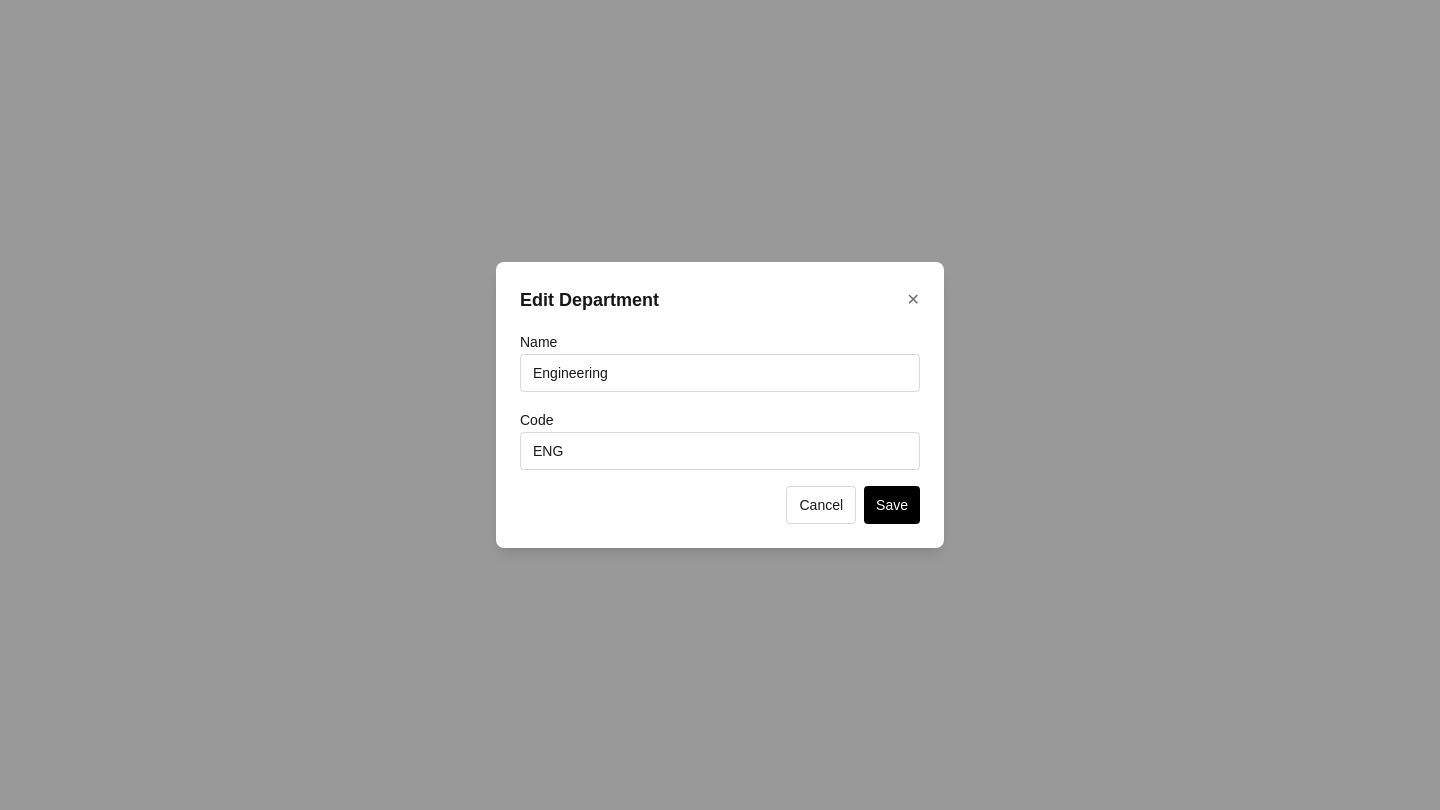
Test: DepartmentFormModal › UT08: shows inline DUPLICATE_CODE when editing with a code used by another department and does not close
Replace the text in the field labelled "Code" with "DUP" at (720, 451), box [520, 432, 920, 470]
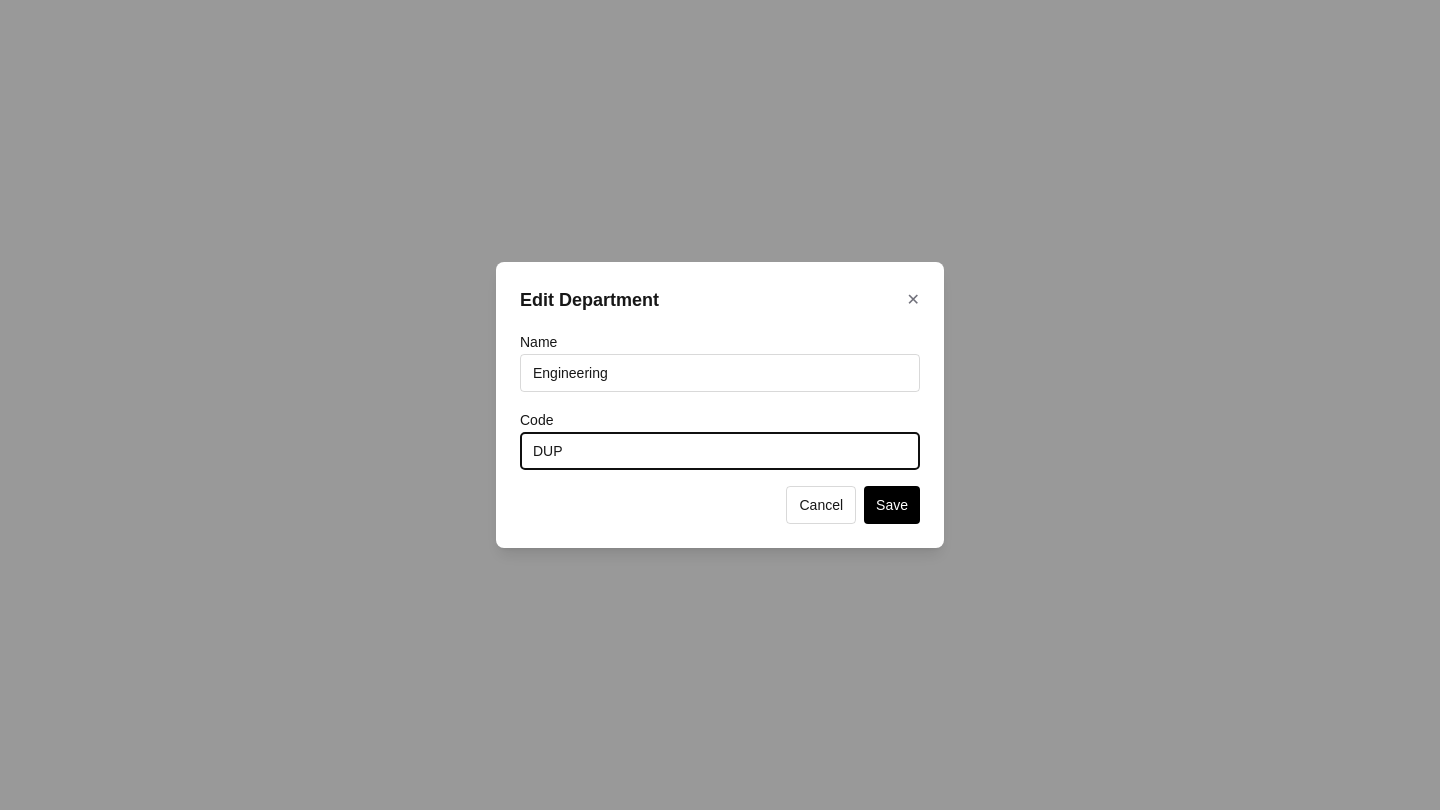
Click the button "Save" at (892, 505), box [864, 486, 920, 524]
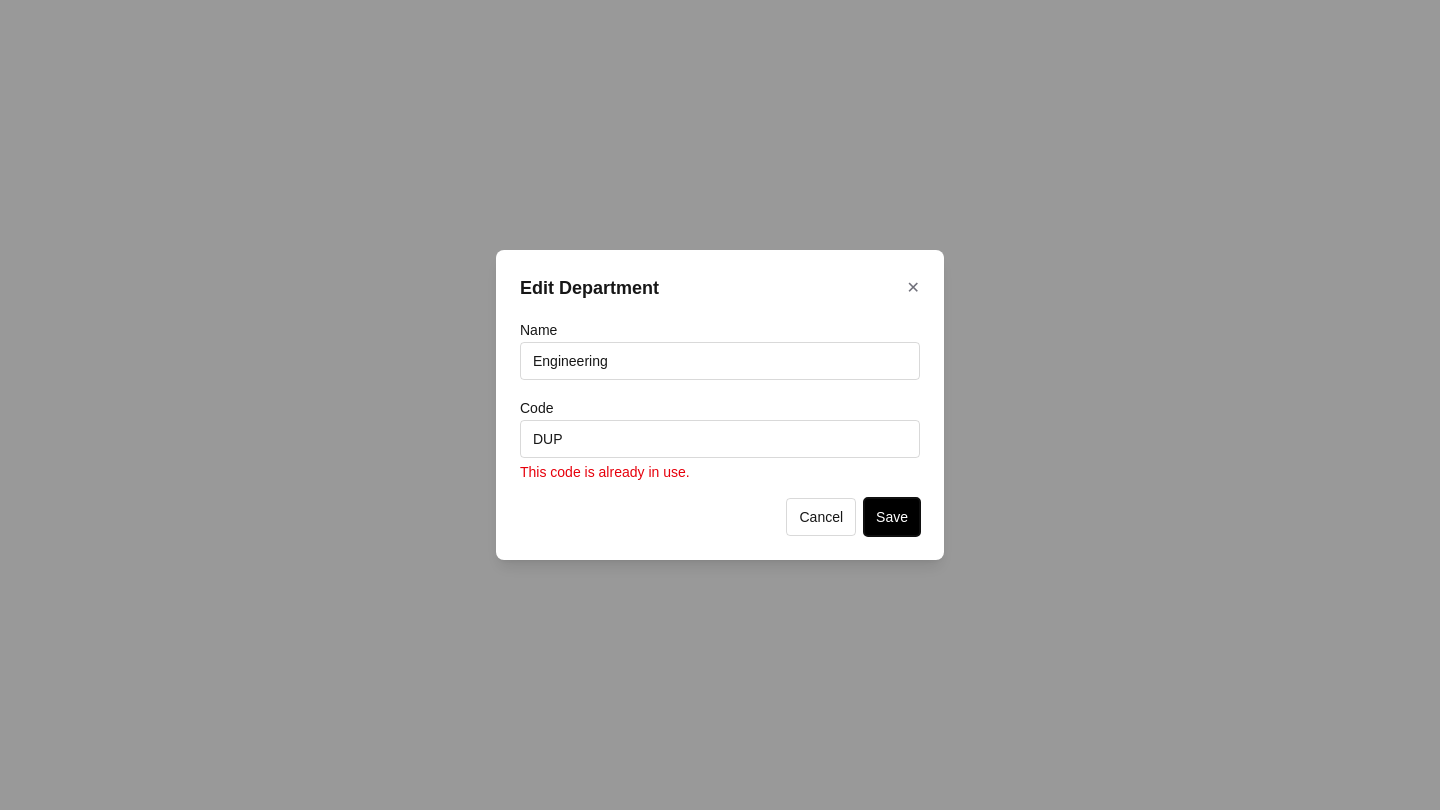
Check: the text "This code is already in use." is shown, box [520, 464, 690, 480]
